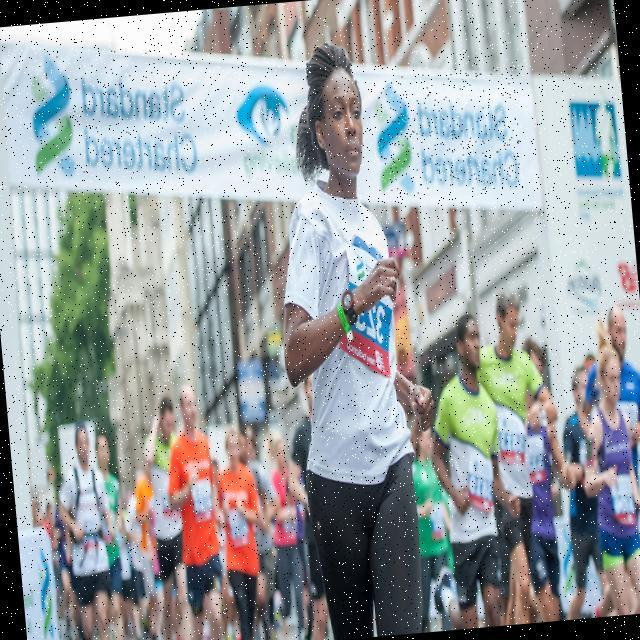Standard Chartered: (26, 43, 200, 194), (369, 66, 523, 199)
